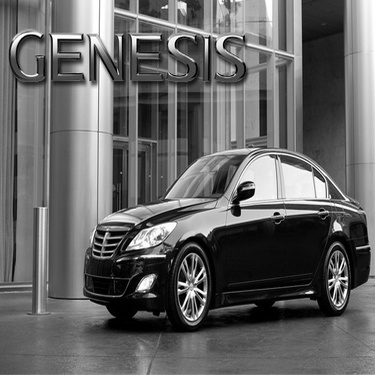car: (65, 133, 372, 331)
